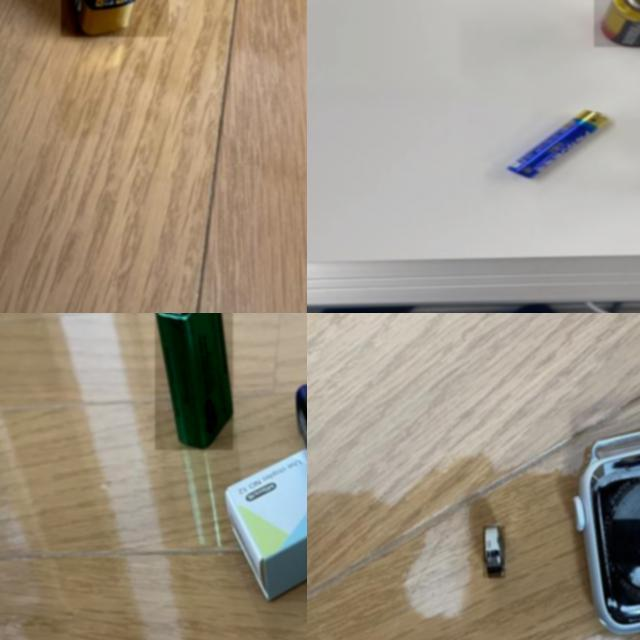9V: (154, 313, 233, 450)
